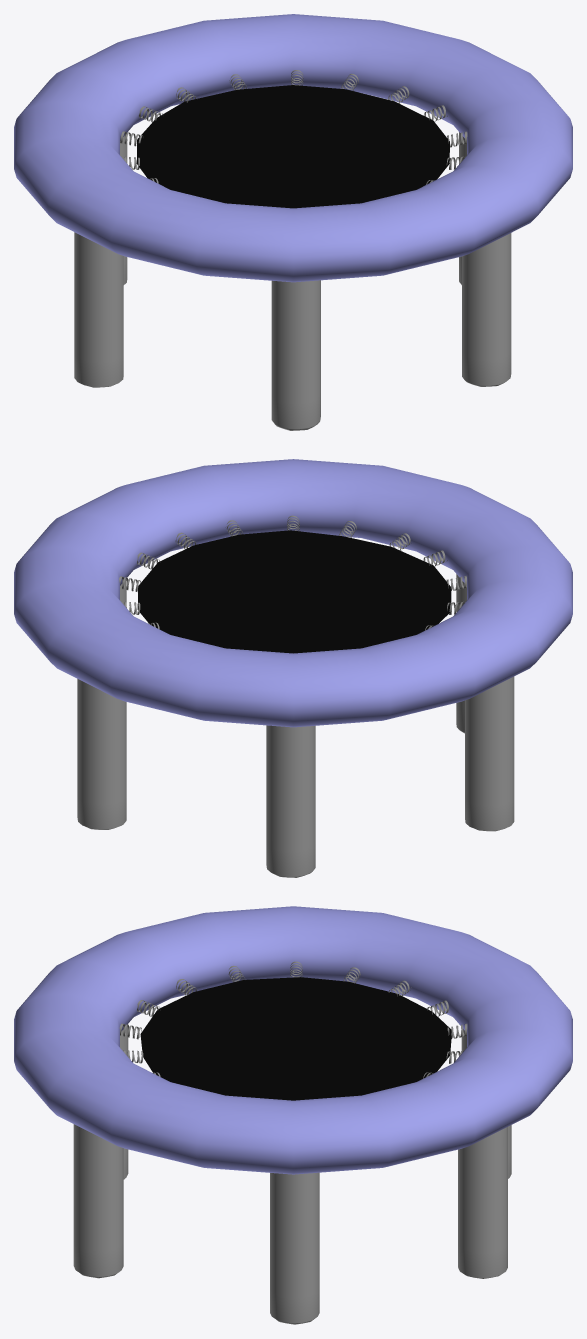
Rendered from trampoline.fbx.
3 views of the same model, one above another, from view 1: azimuth 30°, elevation 25°; view 2: azimuth 150°, elevation 25°; view 3: azimuth 270°, elevation 25° (orthographic).
Visible parts, largest first — view 1: pCylinder26; view 2: pCylinder26; view 3: pCylinder26.
Boxes of the visible parts, <box> form: pCylinder26: <box>14,14,572,430</box>; pCylinder26: <box>14,459,572,877</box>; pCylinder26: <box>14,906,572,1324</box>.
Size of the model in its own units: 5.28 by 2.17 by 5.2.
